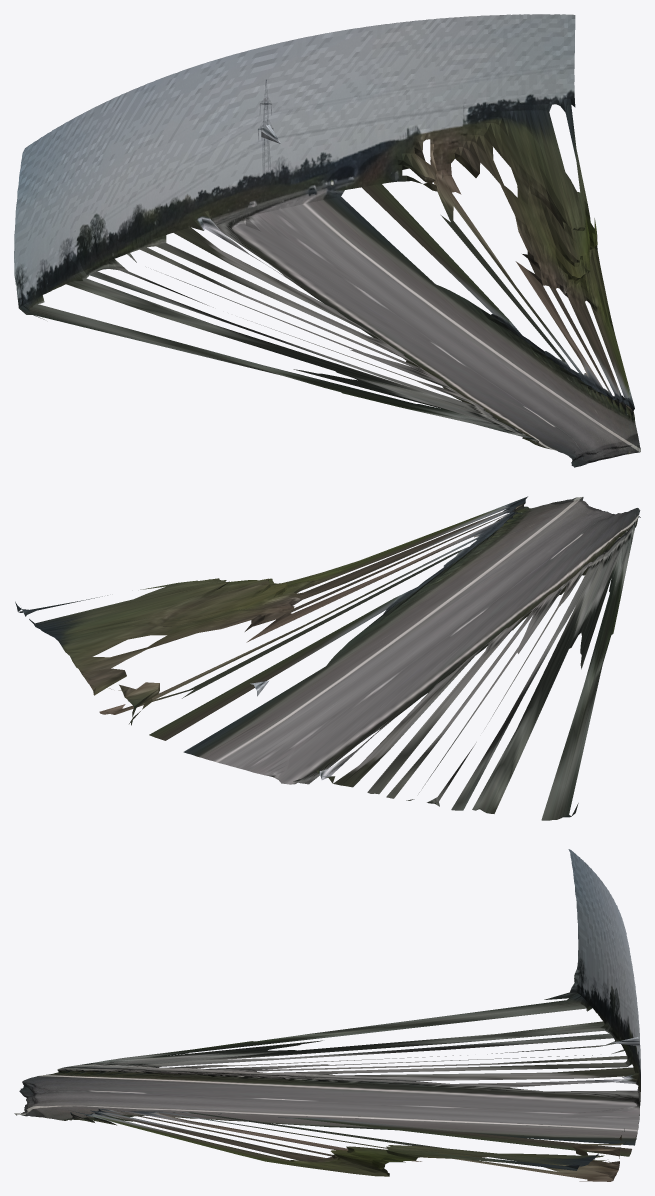
The picture shows the model from 3 angles, top to bottom: view 1: azimuth 30°, elevation 25°; view 2: azimuth 150°, elevation 25°; view 3: azimuth 270°, elevation 25°; orthographic projection. The views are drawn at different scales.
Visible parts, largest first — view 1: defaultobject; view 2: defaultobject; view 3: defaultobject.
Boxes of the visible parts, box(x1,y1,x2,y2) form: defaultobject: box(14, 14, 640, 467); defaultobject: box(15, 496, 640, 820); defaultobject: box(14, 849, 640, 1181).
Bounding box in the file's own units: 41.12 × 12.58 × 44.83.
Materials: 1 (1 with a texture image).
